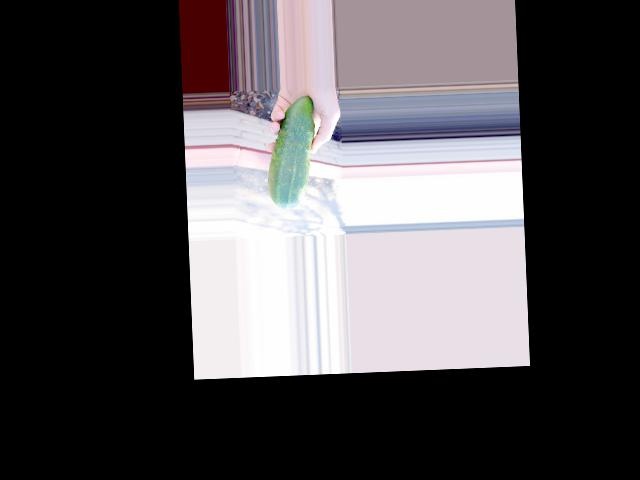cucumber: (263, 96, 317, 209)
